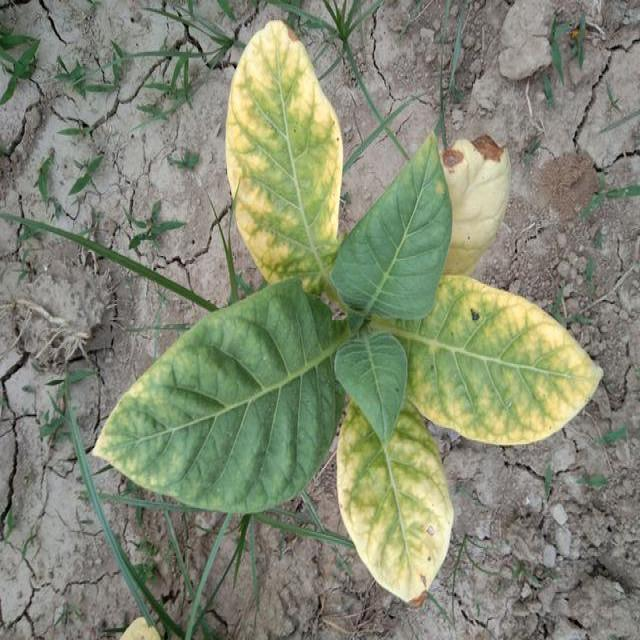crop: (84, 18, 606, 617)
